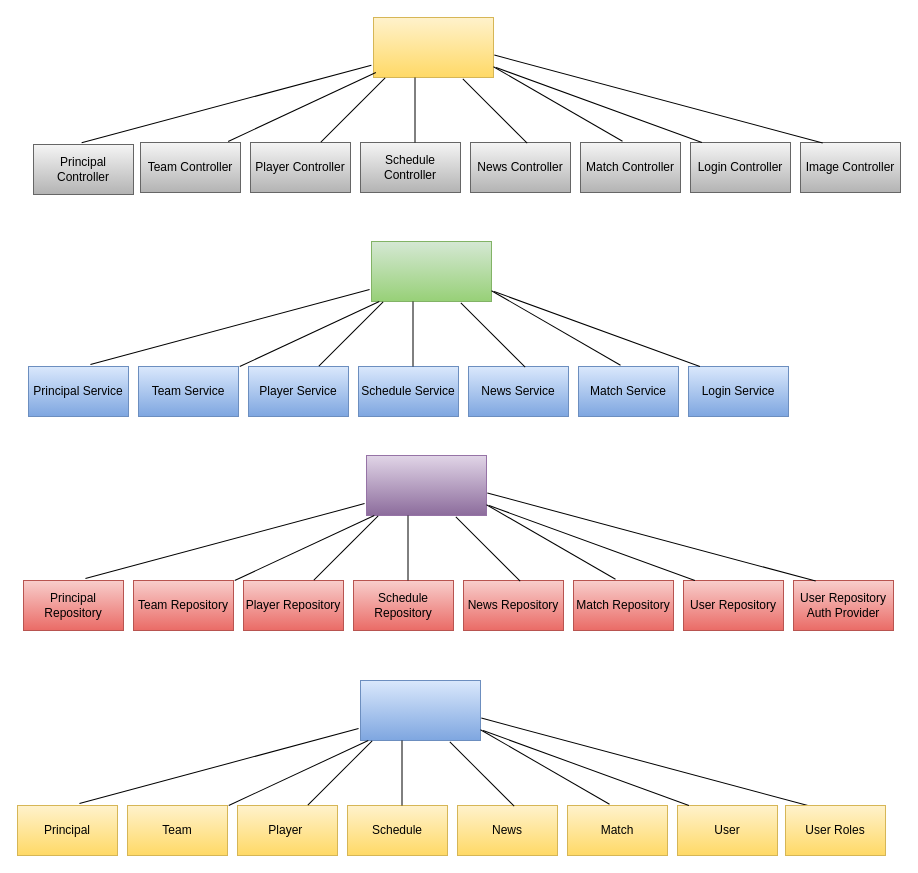
This 918x873 diagram has some shape labels left out. Each missing label, with the centre of its shape:
Controladores: [433,47]
Entidades: [420,710]
Repositorios: [426,485]
Servicios: [431,271]
